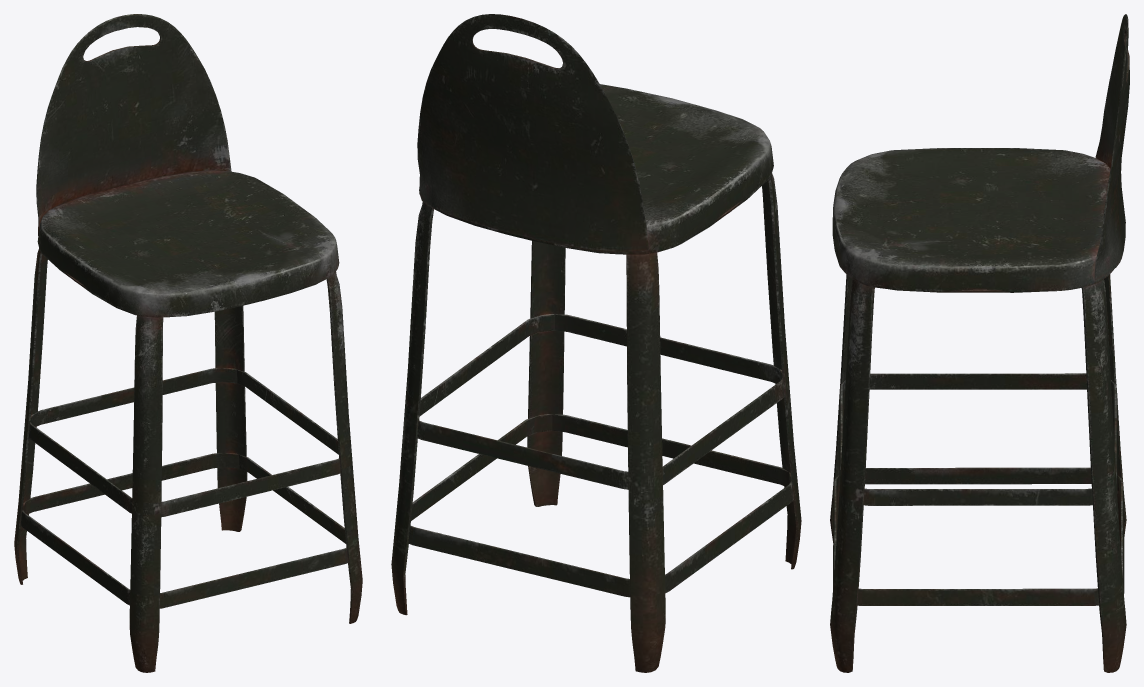
Rendered from ph_metal_chair.gltf.
3 renders of one model, left to right at view 1: azimuth 30°, elevation 25°; view 2: azimuth 150°, elevation 25°; view 3: azimuth 270°, elevation 25°, orthographic. The views are drawn at different scales.
Visible parts, largest first — view 1: Body; view 2: Body; view 3: Body.
Part boxes in pixels (box(x1,y1,x2,y2)): Body: box(14, 14, 362, 672); Body: box(391, 14, 801, 672); Body: box(830, 14, 1129, 672).
Size of the model in its own units: 0.4606 by 1.02 by 0.4706.
Materials: 1 (1 with a texture image).
